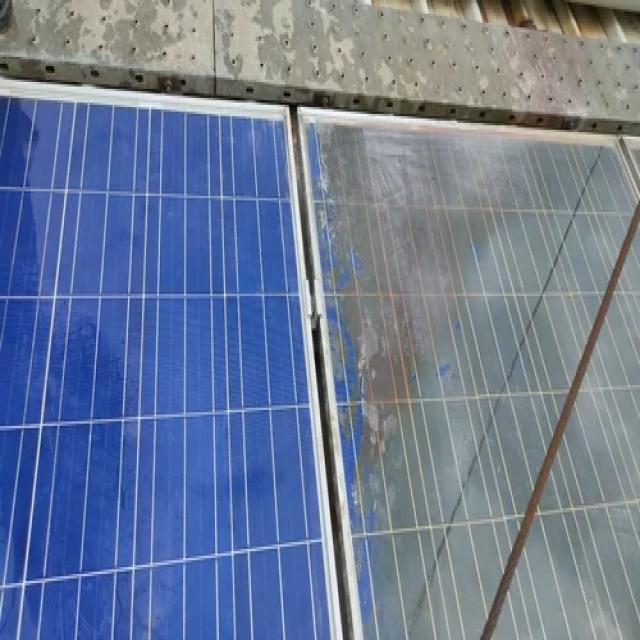faulty: (309, 105, 631, 640), (4, 109, 302, 640)
